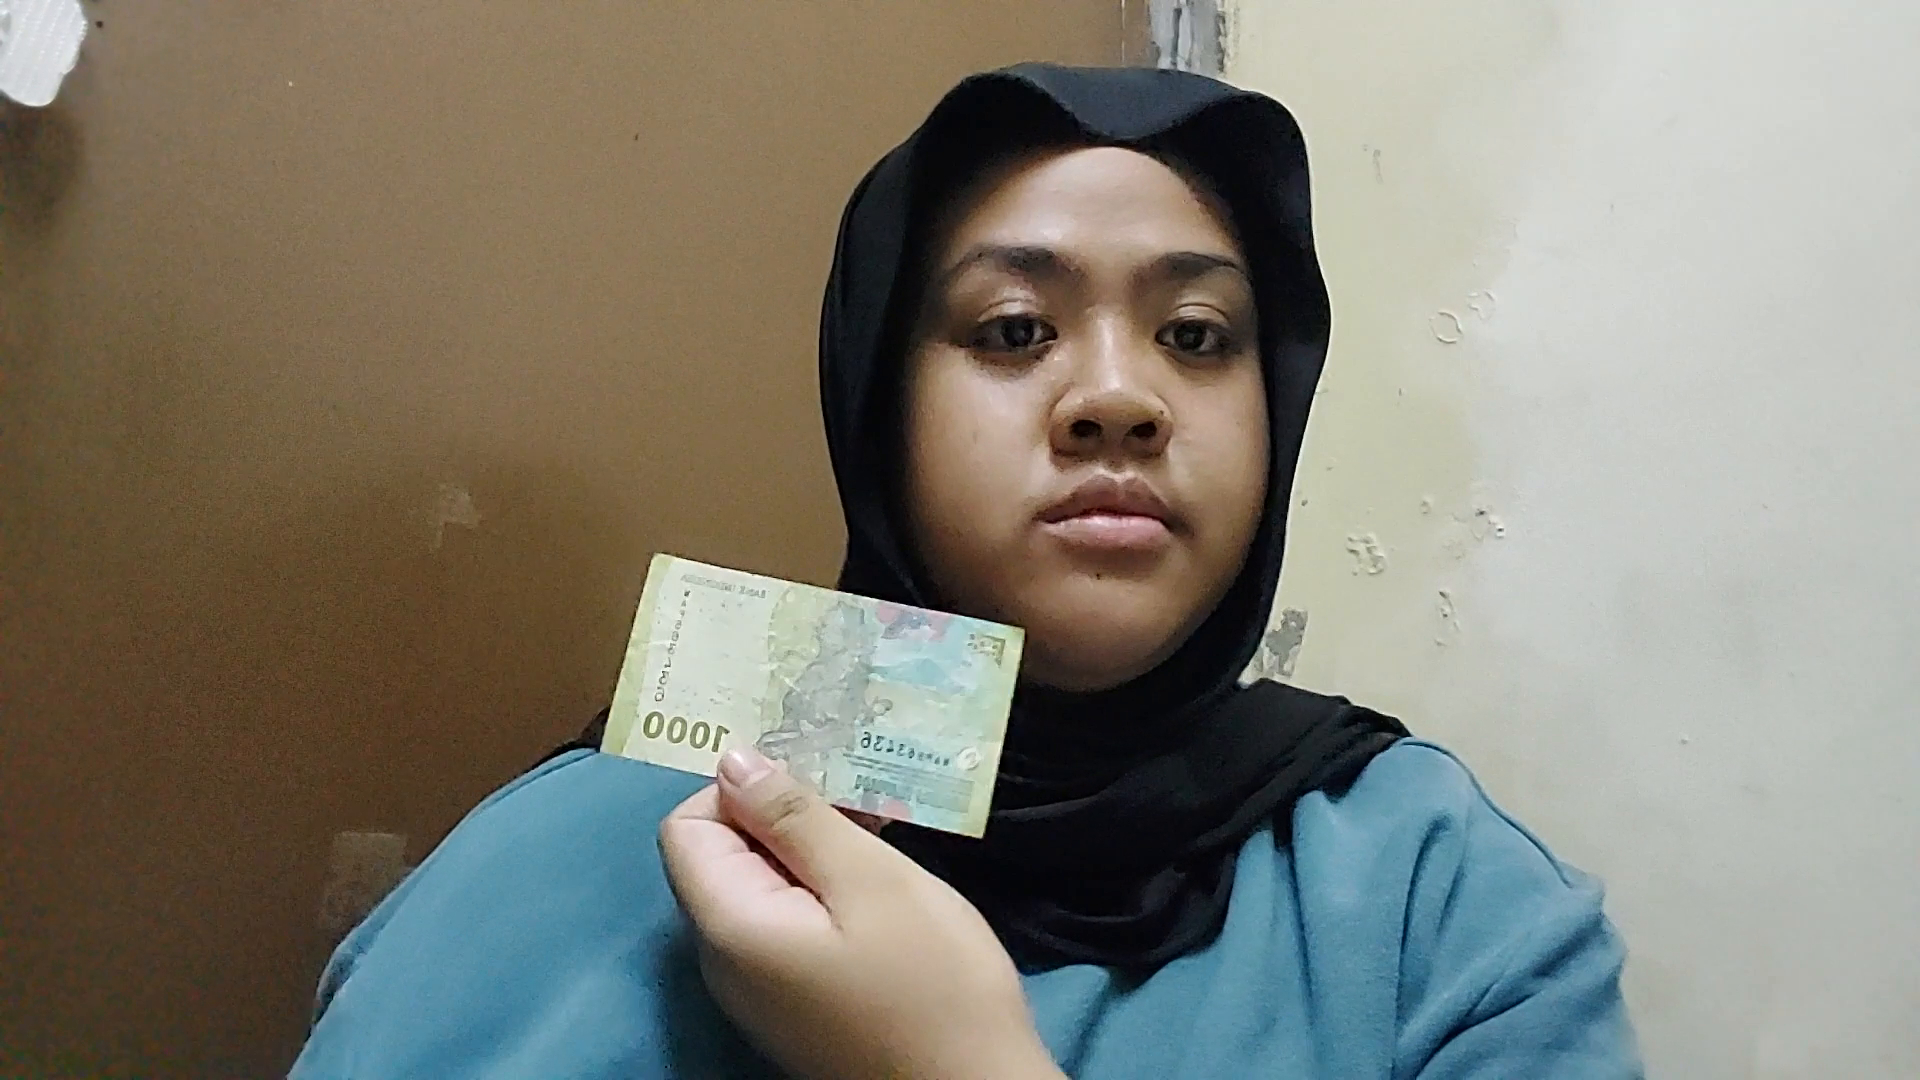1k: (653, 543, 1036, 758)
